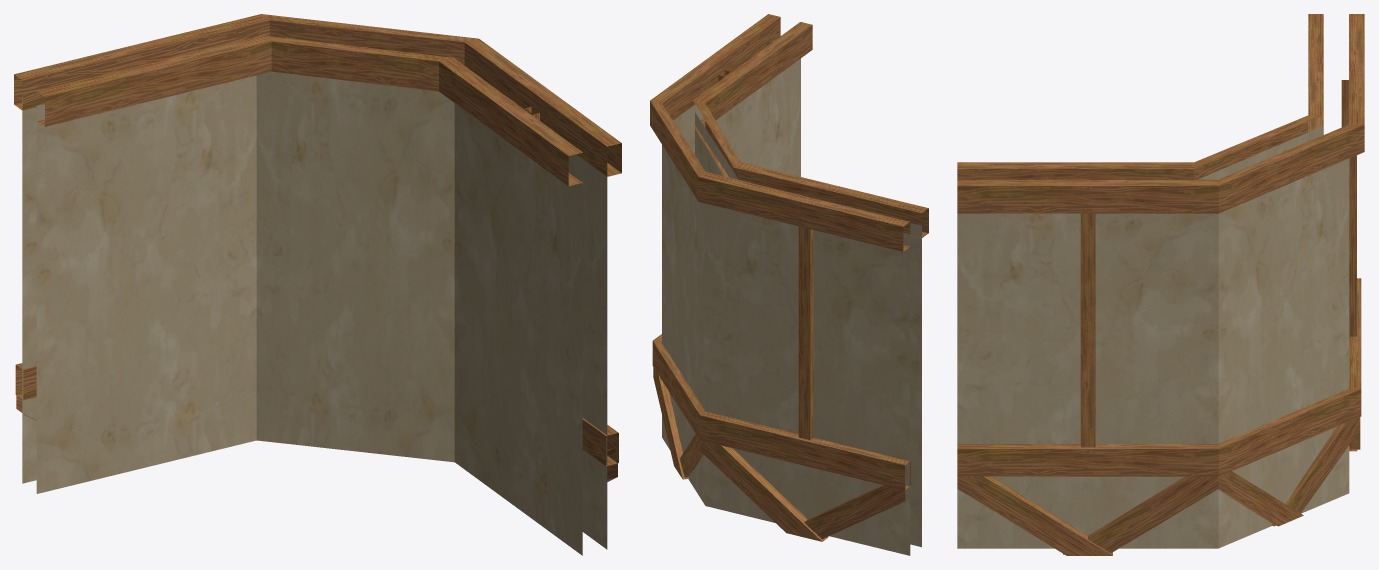
Rendered from Overhang_Plaster_Corner_Front.glb.
3 renders of one model, left to right at view 1: azimuth 30°, elevation 25°; view 2: azimuth 150°, elevation 25°; view 3: azimuth 270°, elevation 25°, orthographic. The views are drawn at different scales.
Parts seen in each view (by area): view 1: Overhang_Plaster_Corner_Front; view 2: Overhang_Plaster_Corner_Front; view 3: Overhang_Plaster_Corner_Front.
Boxes of the visible parts, x1,y1,x2,y2 form: Overhang_Plaster_Corner_Front: (14,14,621,555); Overhang_Plaster_Corner_Front: (650,14,928,555); Overhang_Plaster_Corner_Front: (957,14,1364,555).
Size of the model in its own units: 3.12 by 3.14 by 3.12.
2 materials, 2 textured.
